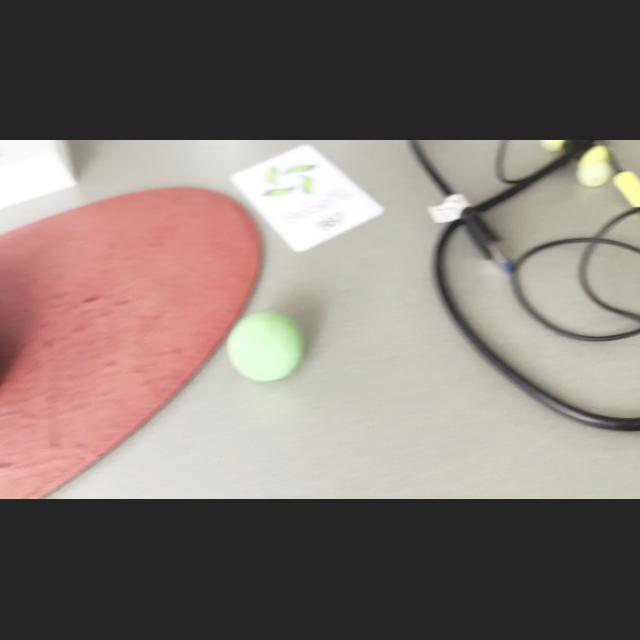objects: (222, 306, 312, 384)
